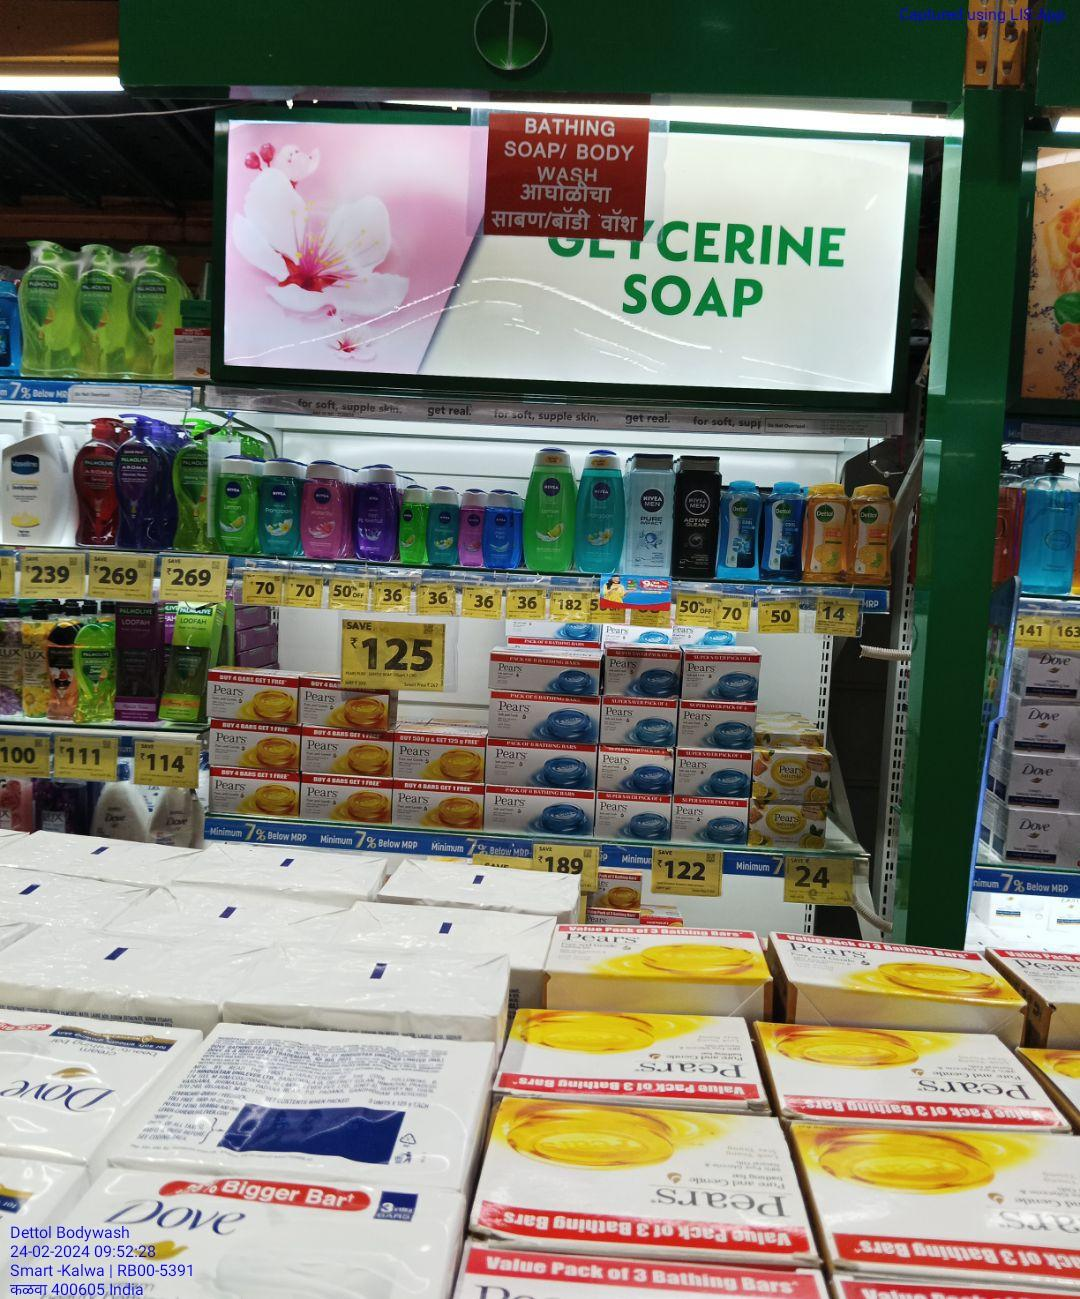Dettol_Bodywash_Cool: (717, 483, 763, 580), (765, 483, 804, 579)
Dettol_Bodywash_Refresh: (849, 483, 894, 585), (806, 486, 848, 585)
Nivea_Shower_Gel_Frangipani_and_Oil_250ML: (576, 449, 626, 573), (259, 462, 299, 557), (428, 488, 459, 565)
Nivea_Shower_Gel_Fresh_Powerfruit_250ML: (354, 470, 397, 561)
Nivea_Shower_Gel_Lemon_and_Oil_250ML: (525, 447, 574, 574), (215, 459, 255, 551), (397, 488, 426, 563)
Nivea_Shower_Gel_Waterlily_and_Oil_250ML: (303, 462, 341, 559)
Palmolive_Aroma_Morning_Tonic_Shower_Gel_250ML: (79, 626, 113, 724)
Palmolive_Luminous_Oils_With_White_Orchid_Shower_Gel_250ML: (45, 627, 79, 720)
